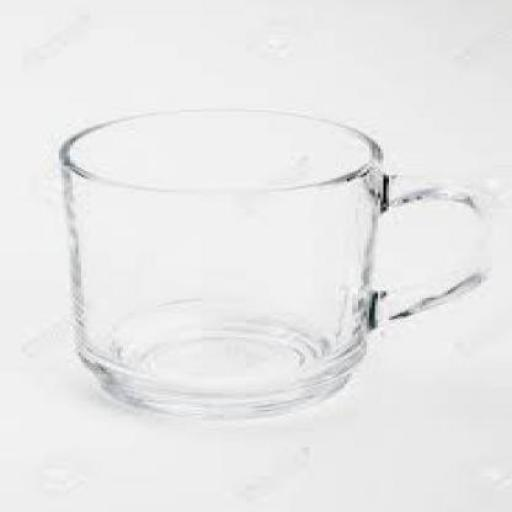glass: (56, 106, 484, 417)
